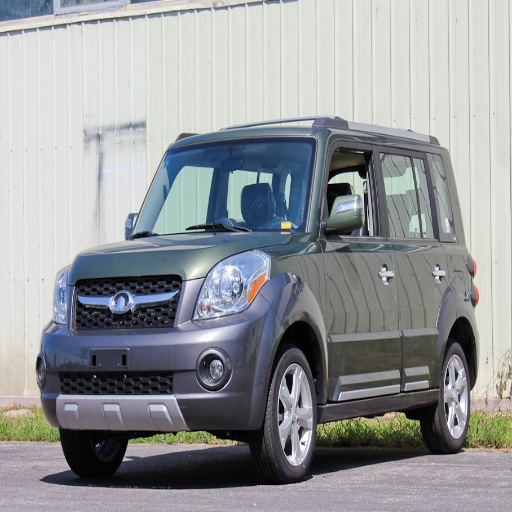front_bumper: (36, 275, 279, 426)
front_glass: (133, 140, 316, 235)
front_left_door: (319, 137, 402, 392)
